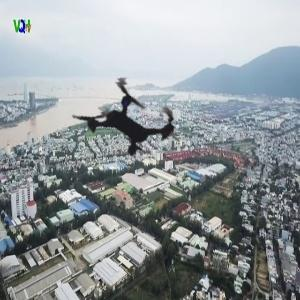drone: (54, 44, 207, 197)
